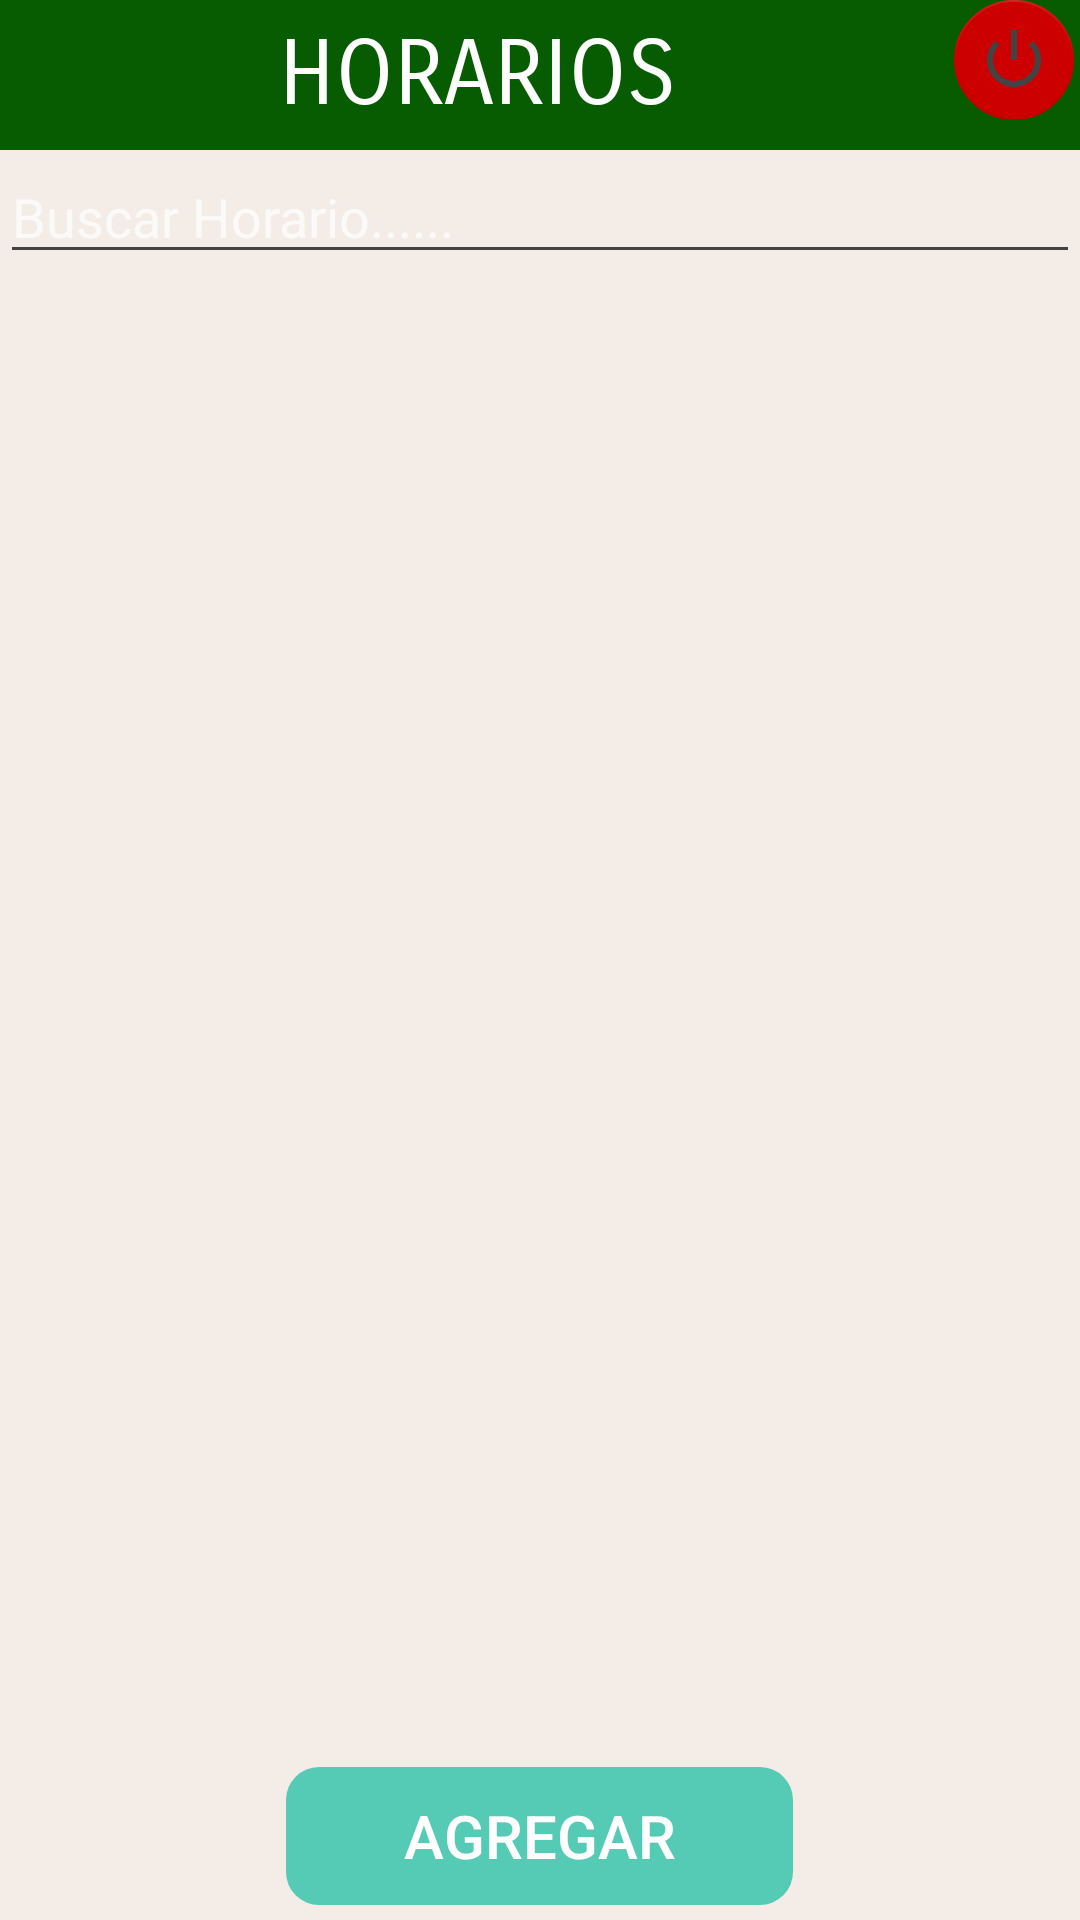

Point at icon controls on the screen. Image size 1080px x 1920px, points as point (x, y).
lock power off: point (1014, 60)
